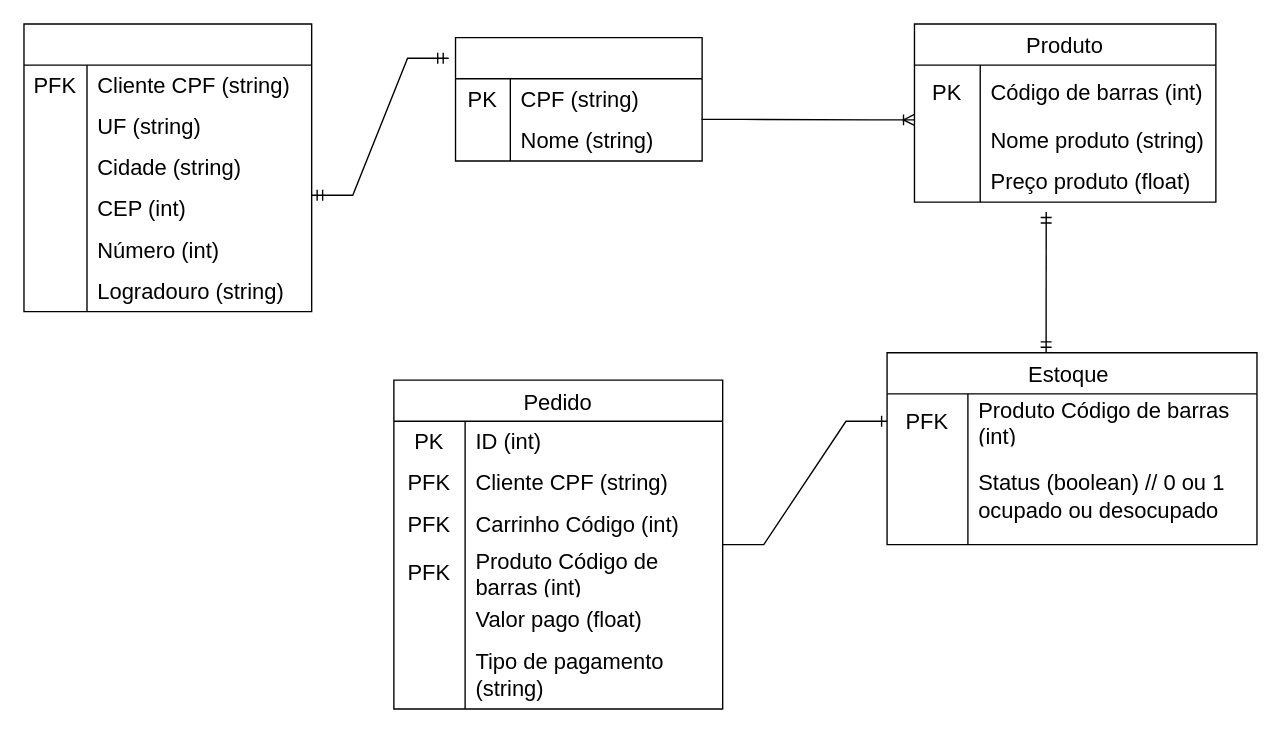
The diagram is 1281 pixels wide and 733 high, and some of its shapes have lost their labels. Here are the shapes that lost their labels. From the top down, the box of each, then its label:
(454, 36, 702, 161): Cliente
(23, 23, 312, 312): Endereço
